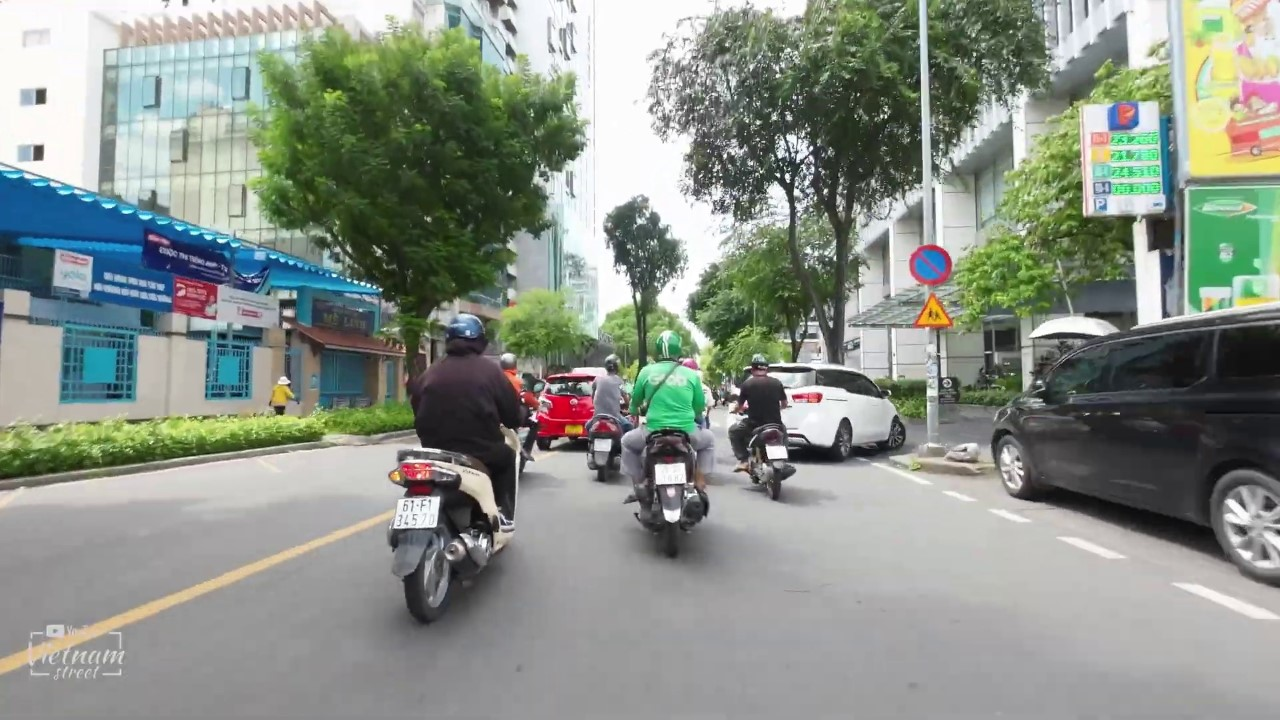cam_do_xe: (908, 243, 952, 286)
